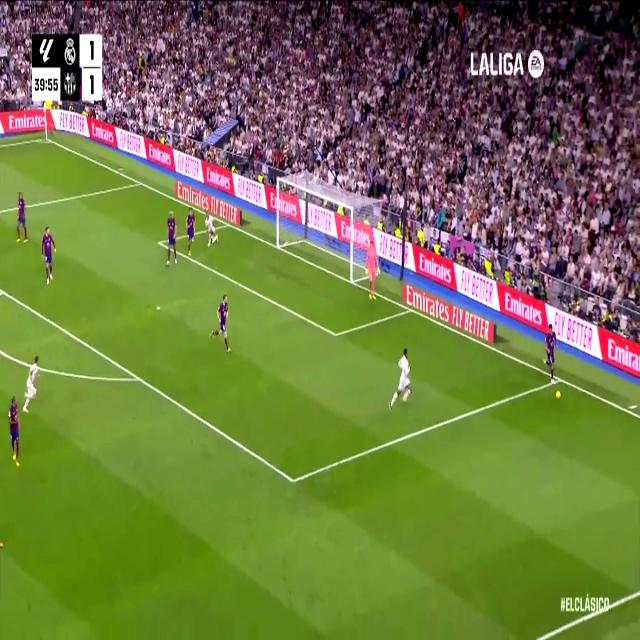bigarea_bottom_inner: (286, 463, 300, 497)
bigarea_bottom_outter: (554, 371, 564, 387)
bigarea_top_outter: (136, 175, 144, 189)
bottom_arc_area_intersection: (132, 366, 144, 389)
corner: (40, 132, 51, 144)
smallarea_bottom_inner: (331, 323, 341, 345)
smallarea_top_inner: (156, 234, 163, 250)
top_arc_area_intersection: (0, 279, 8, 302)
